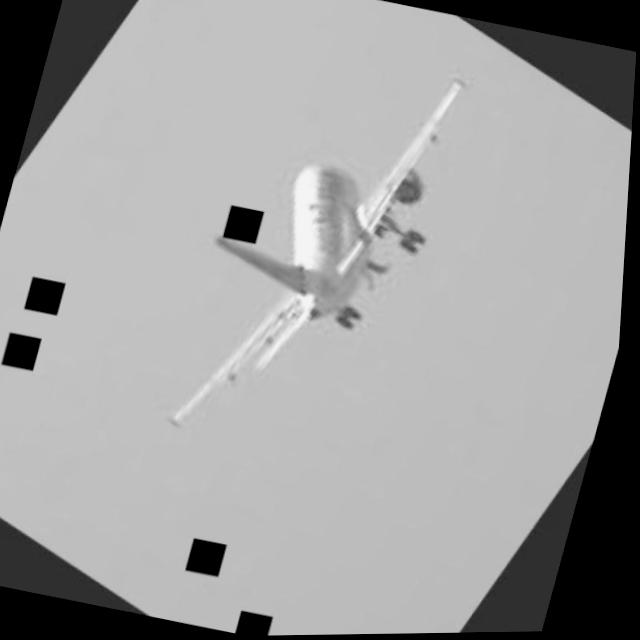aeroplane: (167, 39, 476, 472)
